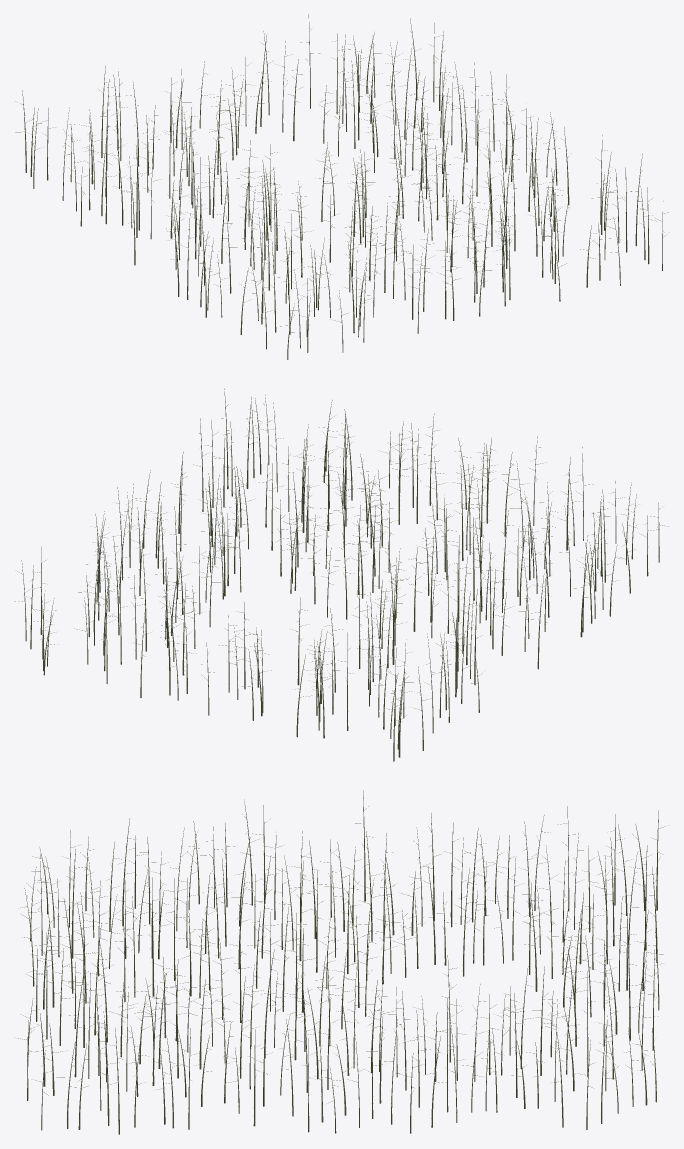
File: bamboo_culms_1.glb
3 views of the same model, one above another, from view 1: azimuth 30°, elevation 25°; view 2: azimuth 150°, elevation 25°; view 3: azimuth 270°, elevation 25° (orthographic). The views are drawn at different scales.
Parts seen in each view (by area): view 1: bamboo_culms_10, bamboo_culms_11, bamboo_culms_12, bamboo_culms_13; view 2: bamboo_culms_10, bamboo_culms_11, bamboo_culms_12, bamboo_culms_13; view 3: bamboo_culms_10, bamboo_culms_11, bamboo_culms_12, bamboo_culms_13.
Boxes of the visible parts, x1,y1,x2,y2 form: bamboo_culms_10: [15, 14, 459, 228]; bamboo_culms_11: [124, 62, 559, 276]; bamboo_culms_12: [166, 118, 612, 334]; bamboo_culms_13: [262, 153, 668, 359]; bamboo_culms_10: [15, 536, 479, 761]; bamboo_culms_11: [90, 470, 546, 688]; bamboo_culms_12: [171, 418, 634, 637]; bamboo_culms_13: [221, 388, 667, 582]; bamboo_culms_10: [455, 806, 664, 1129]; bamboo_culms_11: [279, 790, 466, 1133]; bamboo_culms_12: [129, 799, 309, 1129]; bamboo_culms_13: [18, 818, 153, 1134].
Bounding box in the file's own units: 82.25 × 17.86 × 93.47.
Materials: 1 (1 with a texture image).
